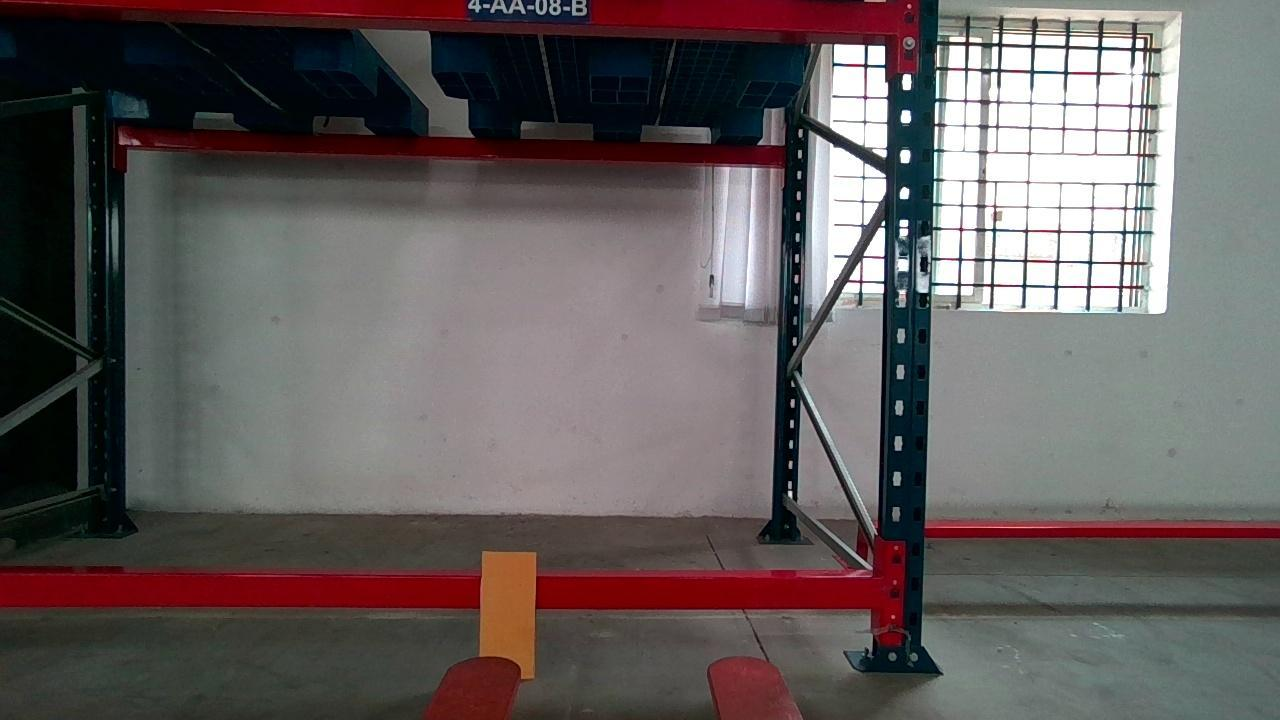h_rack: (0, 570, 879, 610), (53, 0, 896, 32)
orange_strip: (481, 549, 534, 683)
